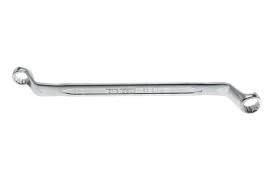wrench: (11, 64, 261, 113)
